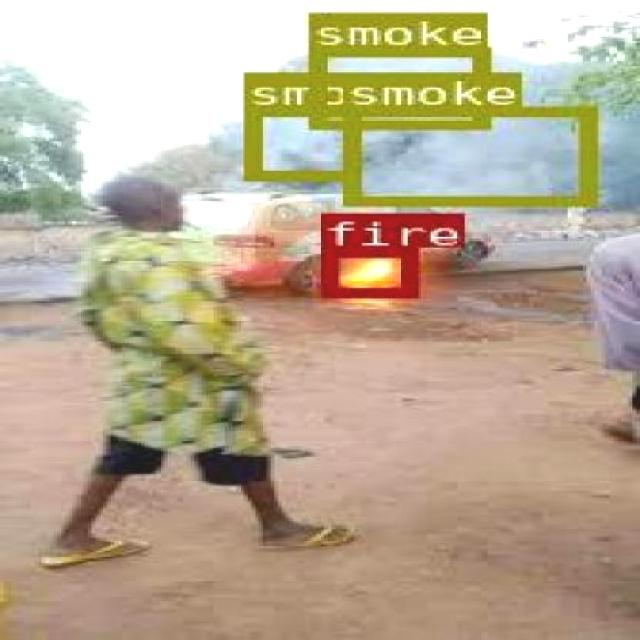fire: (318, 246, 413, 296)
smoke: (340, 105, 592, 204), (304, 46, 486, 126), (243, 106, 357, 179)
